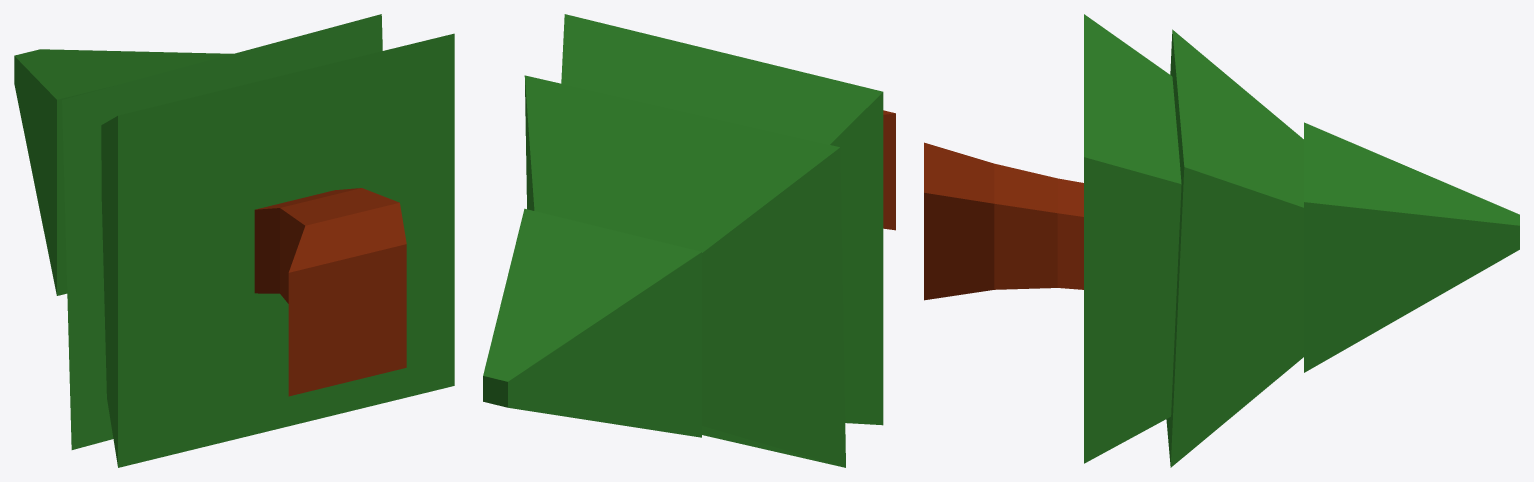
File: gongon_tree.fbx
3 views of the same model, side by side, from view 1: azimuth 30°, elevation 25°; view 2: azimuth 150°, elevation 25°; view 3: azimuth 270°, elevation 25° (orthographic). The views are drawn at different scales.
Visible parts, largest first — view 1: tree; view 2: tree; view 3: tree.
Boxes of the visible parts, x1,y1,x2,y2 form: tree: [14, 14, 454, 467]; tree: [483, 14, 895, 467]; tree: [924, 14, 1519, 467].
Size of the model in its own units: 16.21 by 16.54 by 28.1.
